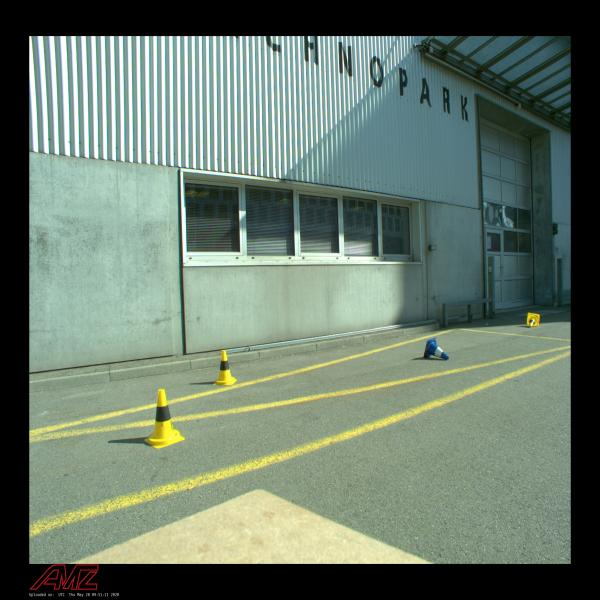blue_cone: (423, 337, 449, 360)
yellow_cone: (144, 389, 185, 449), (213, 350, 237, 386), (527, 312, 540, 327)
